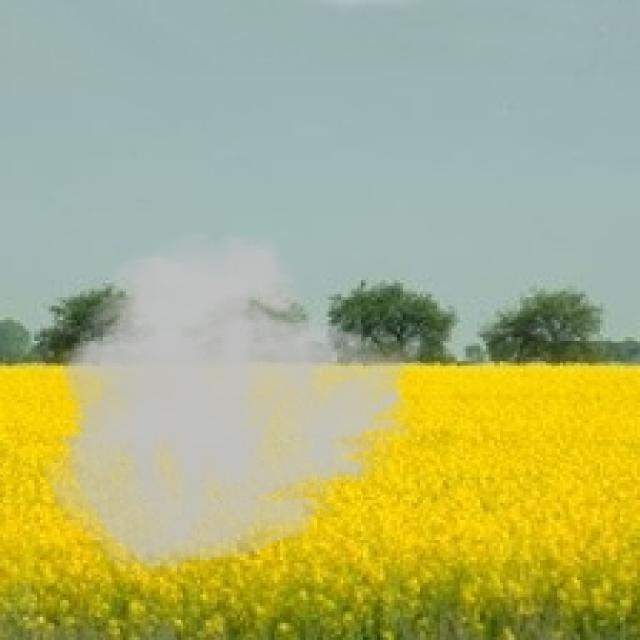Smoke: (40, 228, 429, 578)
